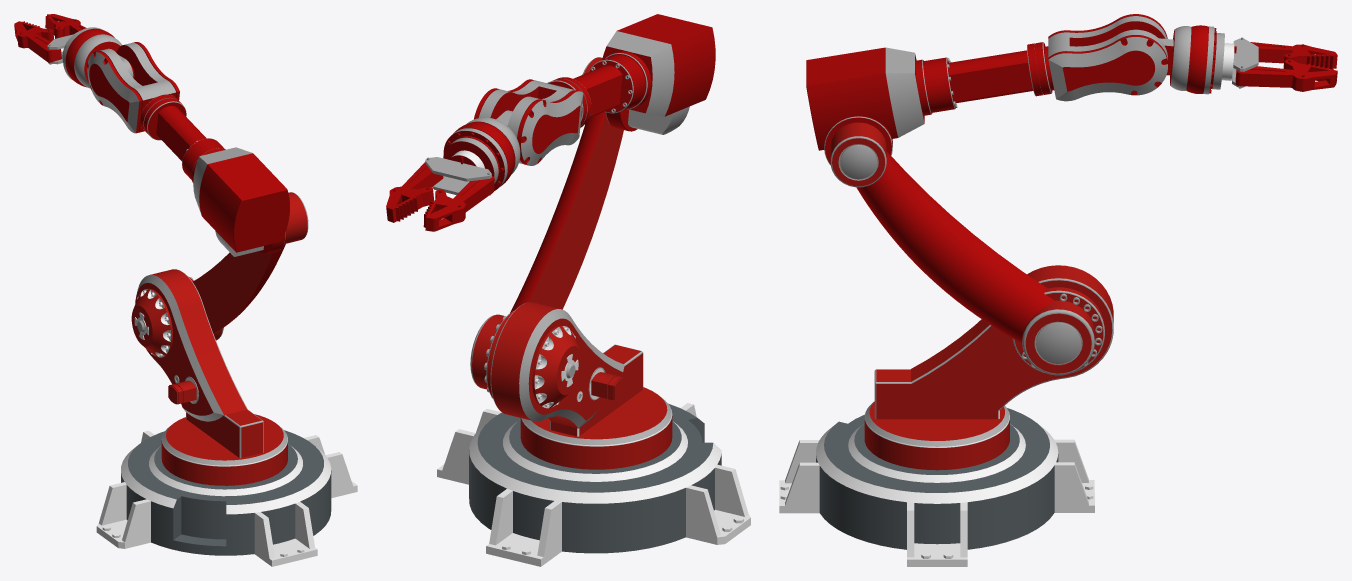
File: robot arm.glb
3 views of the same model, side by side, from view 1: azimuth 30°, elevation 25°; view 2: azimuth 150°, elevation 25°; view 3: azimuth 270°, elevation 25° (orthographic). The views are drawn at different scales.
Parts seen in each view (by area): view 1: Solid1, Solid1.001, Solid1.007, Solid1.002, Solid1.008, Solid1.009, Solid1.011, Solid1.012; view 2: Solid1, Solid1.001, Solid1.007, Solid1.002, Solid1.008, Solid1.010, Solid1.009, Solid1.011, Solid1.012; view 3: Solid1, Solid1.002, Solid1.001, Solid1.007, Solid1.008, Solid1.009, Solid1.012, Solid1.010, Solid1.011.
Part boxes in pixels (x1,y1,x2,y2): Solid1: [96, 430, 357, 566]; Solid1.001: [131, 269, 287, 485]; Solid1.007: [140, 94, 289, 256]; Solid1.002: [188, 192, 308, 340]; Solid1.008: [87, 42, 179, 133]; Solid1.009: [63, 27, 134, 88]; Solid1.011: [14, 21, 61, 62]; Solid1.012: [45, 14, 86, 38]; Solid1: [437, 403, 750, 566]; Solid1.001: [490, 302, 672, 469]; Solid1.007: [547, 14, 715, 134]; Solid1.002: [470, 57, 623, 398]; Solid1.008: [474, 79, 583, 165]; Solid1.010: [425, 137, 498, 195]; Solid1.009: [443, 110, 520, 190]; Solid1.011: [423, 176, 494, 231]; Solid1.012: [386, 162, 443, 222]; Solid1: [779, 408, 1094, 566]; Solid1.002: [830, 122, 1104, 375]; Solid1.001: [864, 265, 1113, 470]; Solid1.007: [806, 42, 1052, 164]; Solid1.008: [1044, 14, 1167, 101]; Solid1.009: [1159, 25, 1216, 94]; Solid1.012: [1235, 59, 1337, 91]; Solid1.010: [1212, 33, 1258, 89]; Solid1.011: [1250, 42, 1337, 69].
Size of the model in its own units: 5.17 by 8.39 by 9.14.
